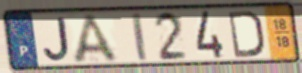2: (154, 9, 189, 62)
4: (195, 10, 226, 61)
A: (71, 12, 122, 65)
D: (226, 9, 266, 59)
I: (129, 11, 149, 63)
J: (41, 15, 72, 63)
